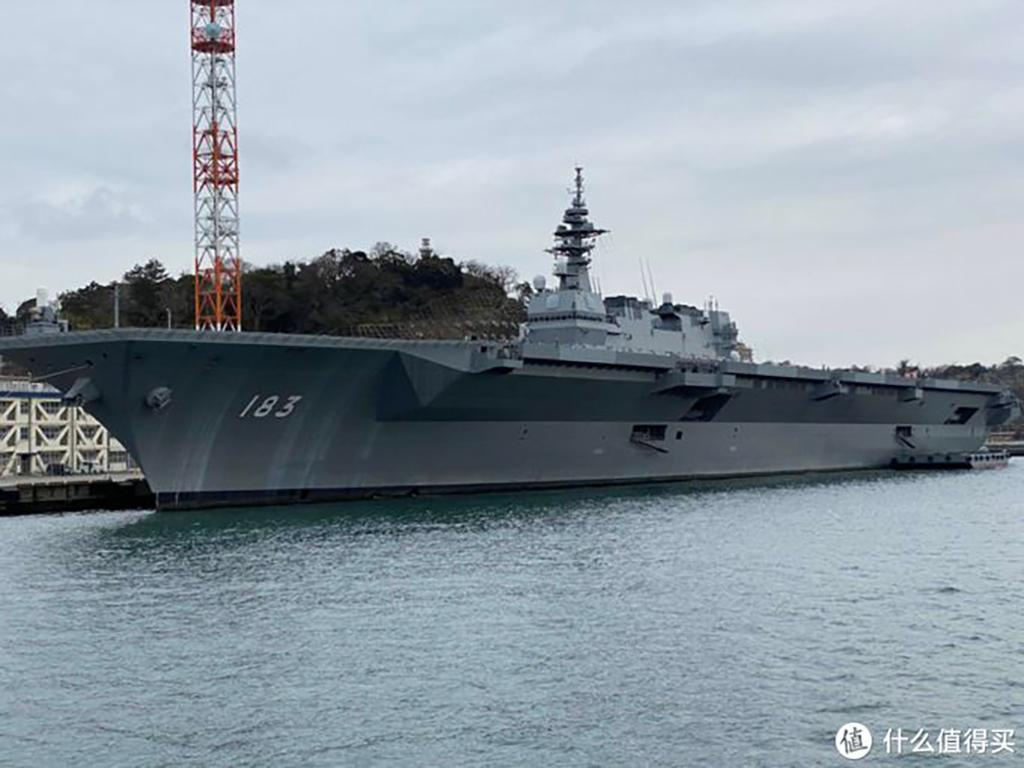Warship: (0, 158, 1008, 514)
